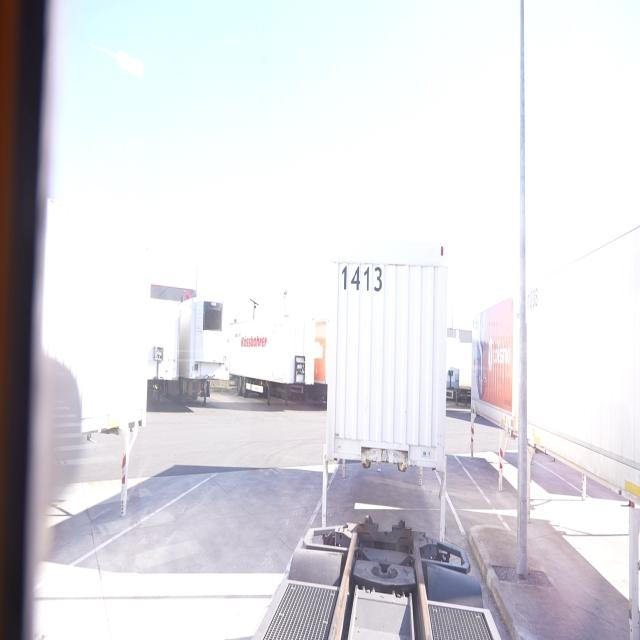Code: (339, 256, 385, 300)
